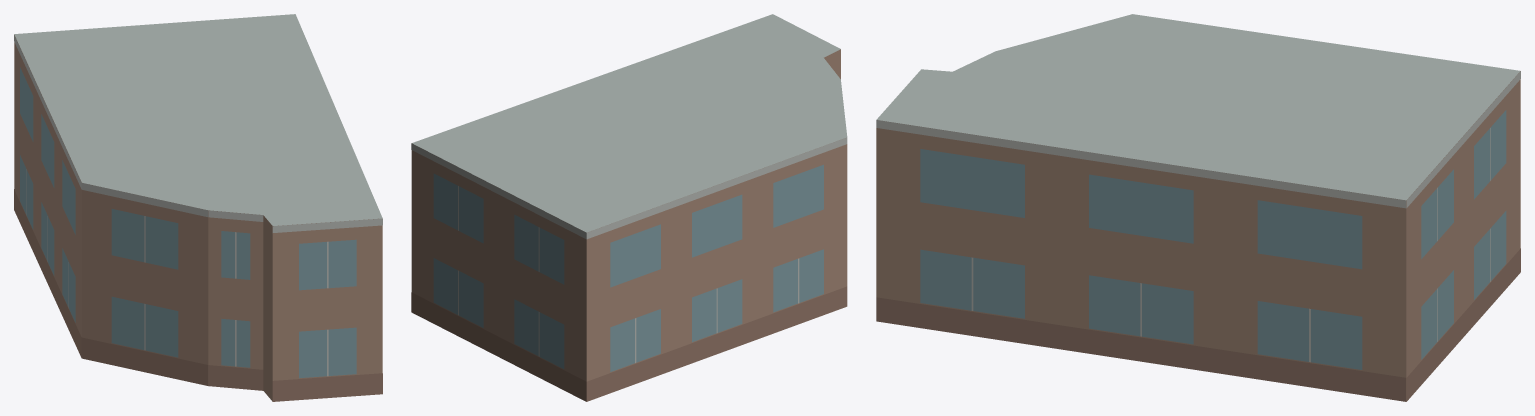
File: survey-upis-32528532.glb
The picture shows the model from 3 angles, left to right: view 1: azimuth 30°, elevation 25°; view 2: azimuth 150°, elevation 25°; view 3: azimuth 270°, elevation 25°; orthographic projection. The views are drawn at different scales.
Parts seen in each view (by area): view 1: survey-upis-32528532.tmp; view 2: survey-upis-32528532.tmp; view 3: survey-upis-32528532.tmp.
Boxes of the visible parts, <box> form: survey-upis-32528532.tmp: <box>14,14,382,401</box>; survey-upis-32528532.tmp: <box>411,14,847,401</box>; survey-upis-32528532.tmp: <box>876,14,1520,401</box>.
Size of the model in its own units: 12.11 by 6.1 by 17.69.
